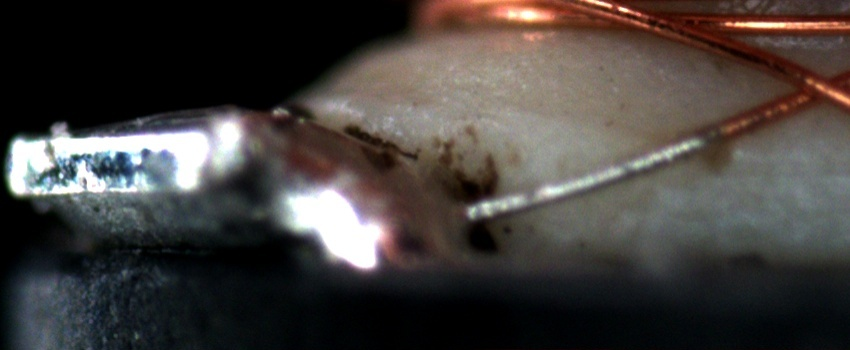CL: (769, 57, 845, 116)
DL: (702, 134, 850, 197)
TS: (464, 126, 723, 221)
